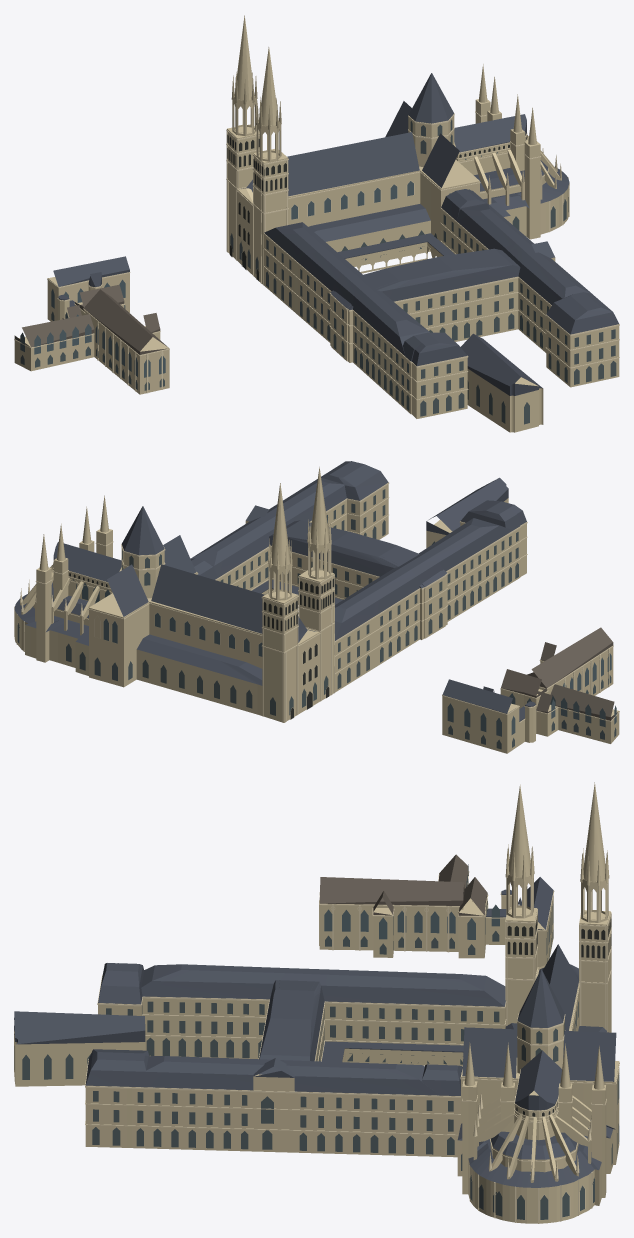
File: abbaye-aux-hommes-far.glb
3 views of the same model, one above another, from view 1: azimuth 30°, elevation 25°; view 2: azimuth 150°, elevation 25°; view 3: azimuth 270°, elevation 25° (orthographic). The views are drawn at different scales.
Visible parts, largest first — view 1: abbaye-aux-hommes-0-stone, abbaye-aux-hommes-0-roof, abbaye-aux-hommes-0-glass, abbaye-aux-hommes-0-trim, abbaye-aux-hommes-0-tile, abbaye-aux-hommes-0-glow, abbaye-aux-hommes-0-recess; view 2: abbaye-aux-hommes-0-stone, abbaye-aux-hommes-0-roof, abbaye-aux-hommes-0-trim, abbaye-aux-hommes-0-glass, abbaye-aux-hommes-0-tile, abbaye-aux-hommes-0-glow, abbaye-aux-hommes-0-recess; view 3: abbaye-aux-hommes-0-stone, abbaye-aux-hommes-0-roof, abbaye-aux-hommes-0-glass, abbaye-aux-hommes-0-trim, abbaye-aux-hommes-0-tile, abbaye-aux-hommes-0-glow, abbaye-aux-hommes-0-recess.
Boxes of the visible parts, x1,y1,x2,y2 form: abbaye-aux-hommes-0-stone: [14, 15, 619, 432]; abbaye-aux-hommes-0-roof: [48, 73, 618, 395]; abbaye-aux-hommes-0-glass: [20, 119, 616, 424]; abbaye-aux-hommes-0-trim: [14, 99, 619, 400]; abbaye-aux-hommes-0-tile: [14, 284, 168, 354]; abbaye-aux-hommes-0-glow: [20, 152, 497, 377]; abbaye-aux-hommes-0-recess: [227, 134, 526, 280]; abbaye-aux-hommes-0-stone: [14, 467, 619, 753]; abbaye-aux-hommes-0-roof: [14, 461, 535, 721]; abbaye-aux-hommes-0-trim: [14, 482, 619, 723]; abbaye-aux-hommes-0-glass: [17, 489, 616, 749]; abbaye-aux-hommes-0-tile: [501, 627, 618, 720]; abbaye-aux-hommes-0-glow: [73, 579, 616, 736]; abbaye-aux-hommes-0-recess: [69, 573, 335, 719]; abbaye-aux-hommes-0-stone: [14, 782, 619, 1223]; abbaye-aux-hommes-0-roof: [14, 877, 616, 1187]; abbaye-aux-hommes-0-glass: [14, 930, 619, 1219]; abbaye-aux-hommes-0-trim: [85, 871, 619, 1223]; abbaye-aux-hommes-0-tile: [319, 854, 487, 915]; abbaye-aux-hommes-0-glow: [324, 864, 619, 1104]; abbaye-aux-hommes-0-recess: [507, 916, 611, 1116].
Size of the model in its own units: 207 by 82 by 162.
